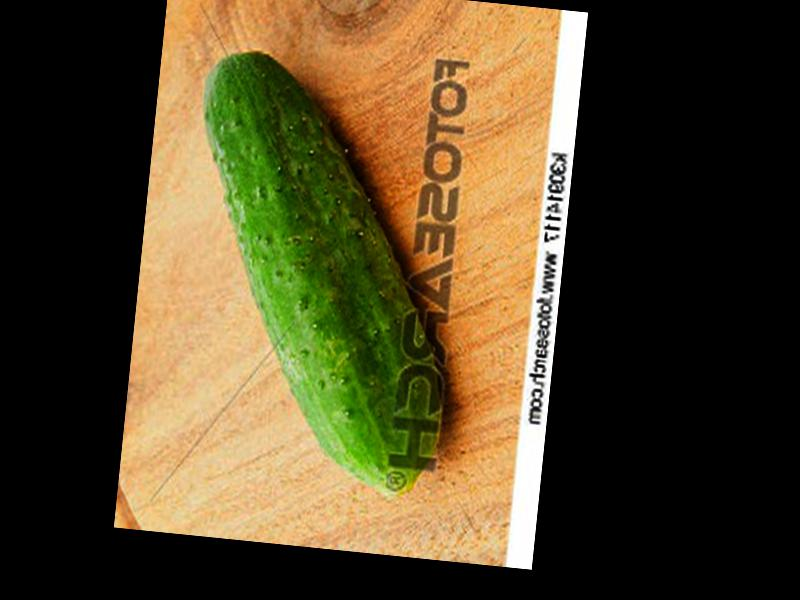Cucumber: (166, 46, 480, 500)
